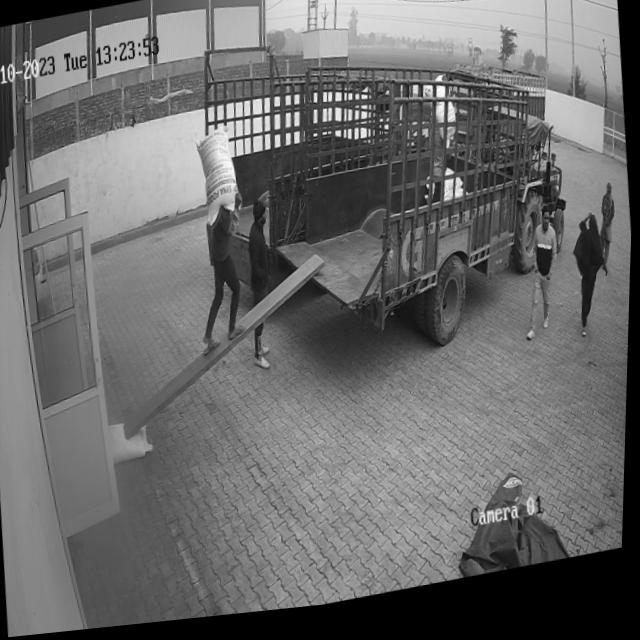sack: (194, 129, 242, 232), (110, 418, 156, 466)
